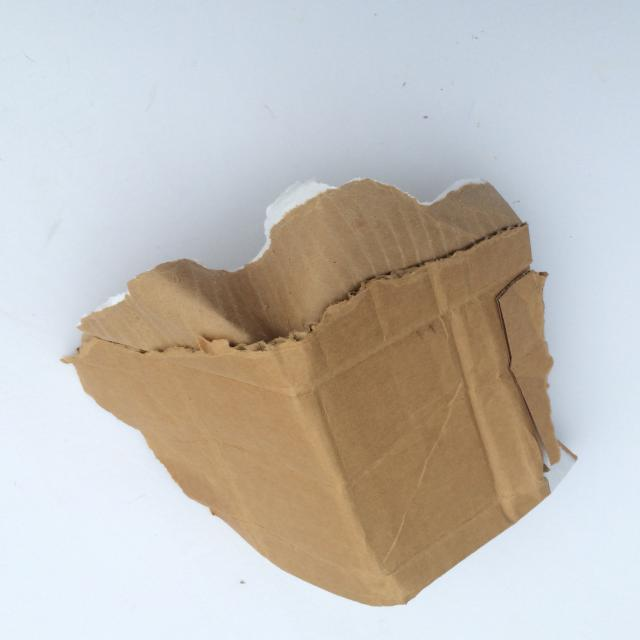Cardboard: (46, 167, 626, 612)
